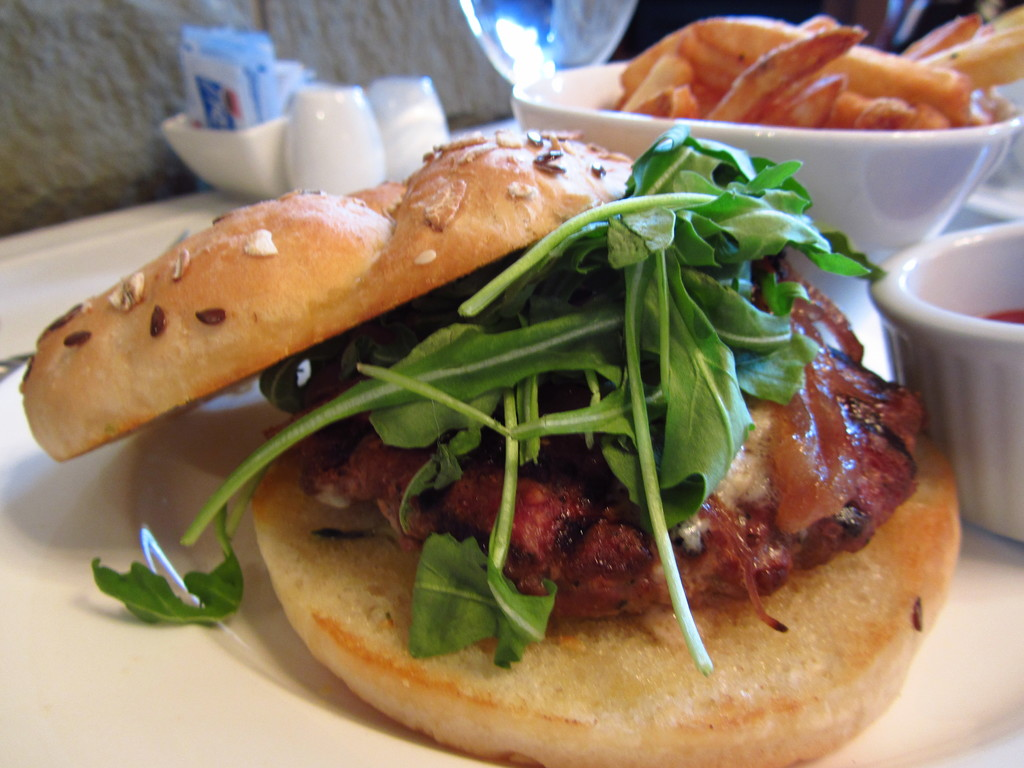Hamburger: (0, 129, 962, 767)
